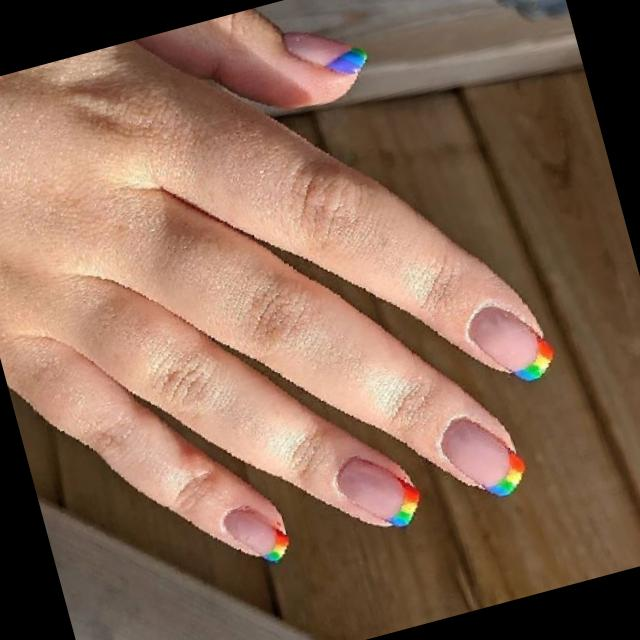Nail: (439, 417, 523, 495), (467, 305, 550, 378), (335, 457, 417, 525), (222, 507, 287, 561), (281, 35, 366, 72)
